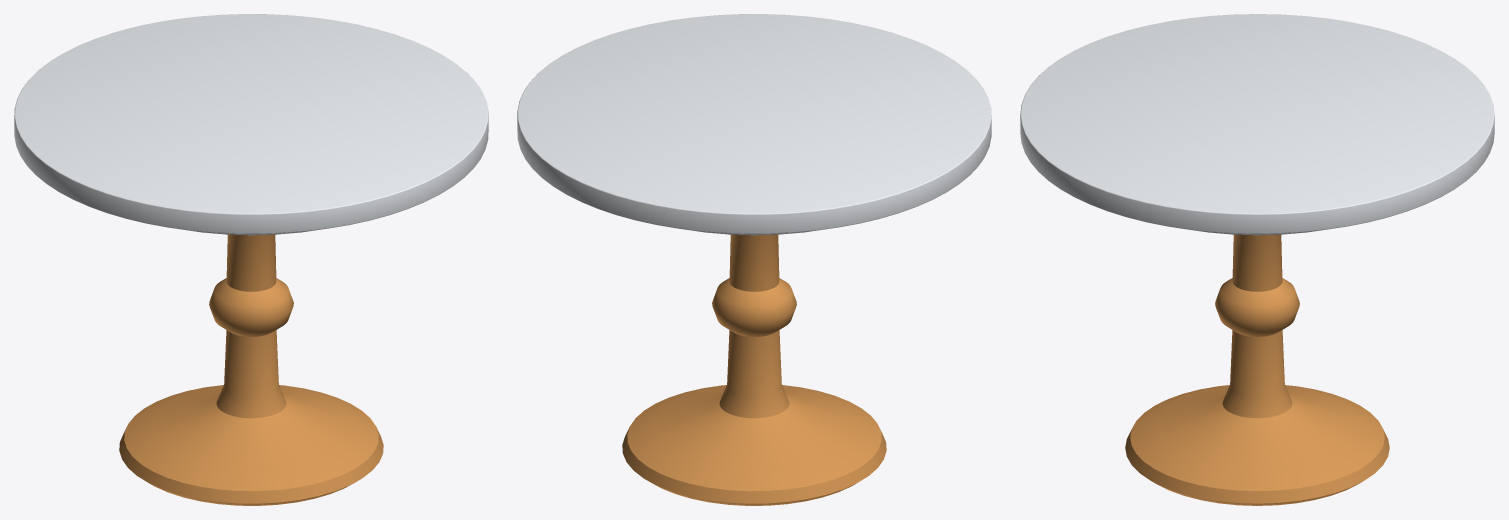
File: mesa_jantar_redonda_pedestal_branca.glb
3 renders of one model, left to right at view 1: azimuth 30°, elevation 25°; view 2: azimuth 150°, elevation 25°; view 3: azimuth 270°, elevation 25°, orthographic.
Parts seen in each view (by area): view 1: mesa_jantar_redonda_pedestal_branca; view 2: mesa_jantar_redonda_pedestal_branca; view 3: mesa_jantar_redonda_pedestal_branca.
Part boxes in pixels (x1,y1,x2,y2): mesa_jantar_redonda_pedestal_branca: (14, 14, 488, 505); mesa_jantar_redonda_pedestal_branca: (517, 14, 991, 505); mesa_jantar_redonda_pedestal_branca: (1020, 14, 1494, 505).
Bounding box in the file's own units: 0.95 × 0.75 × 0.95.
1 material, 1 textured.
